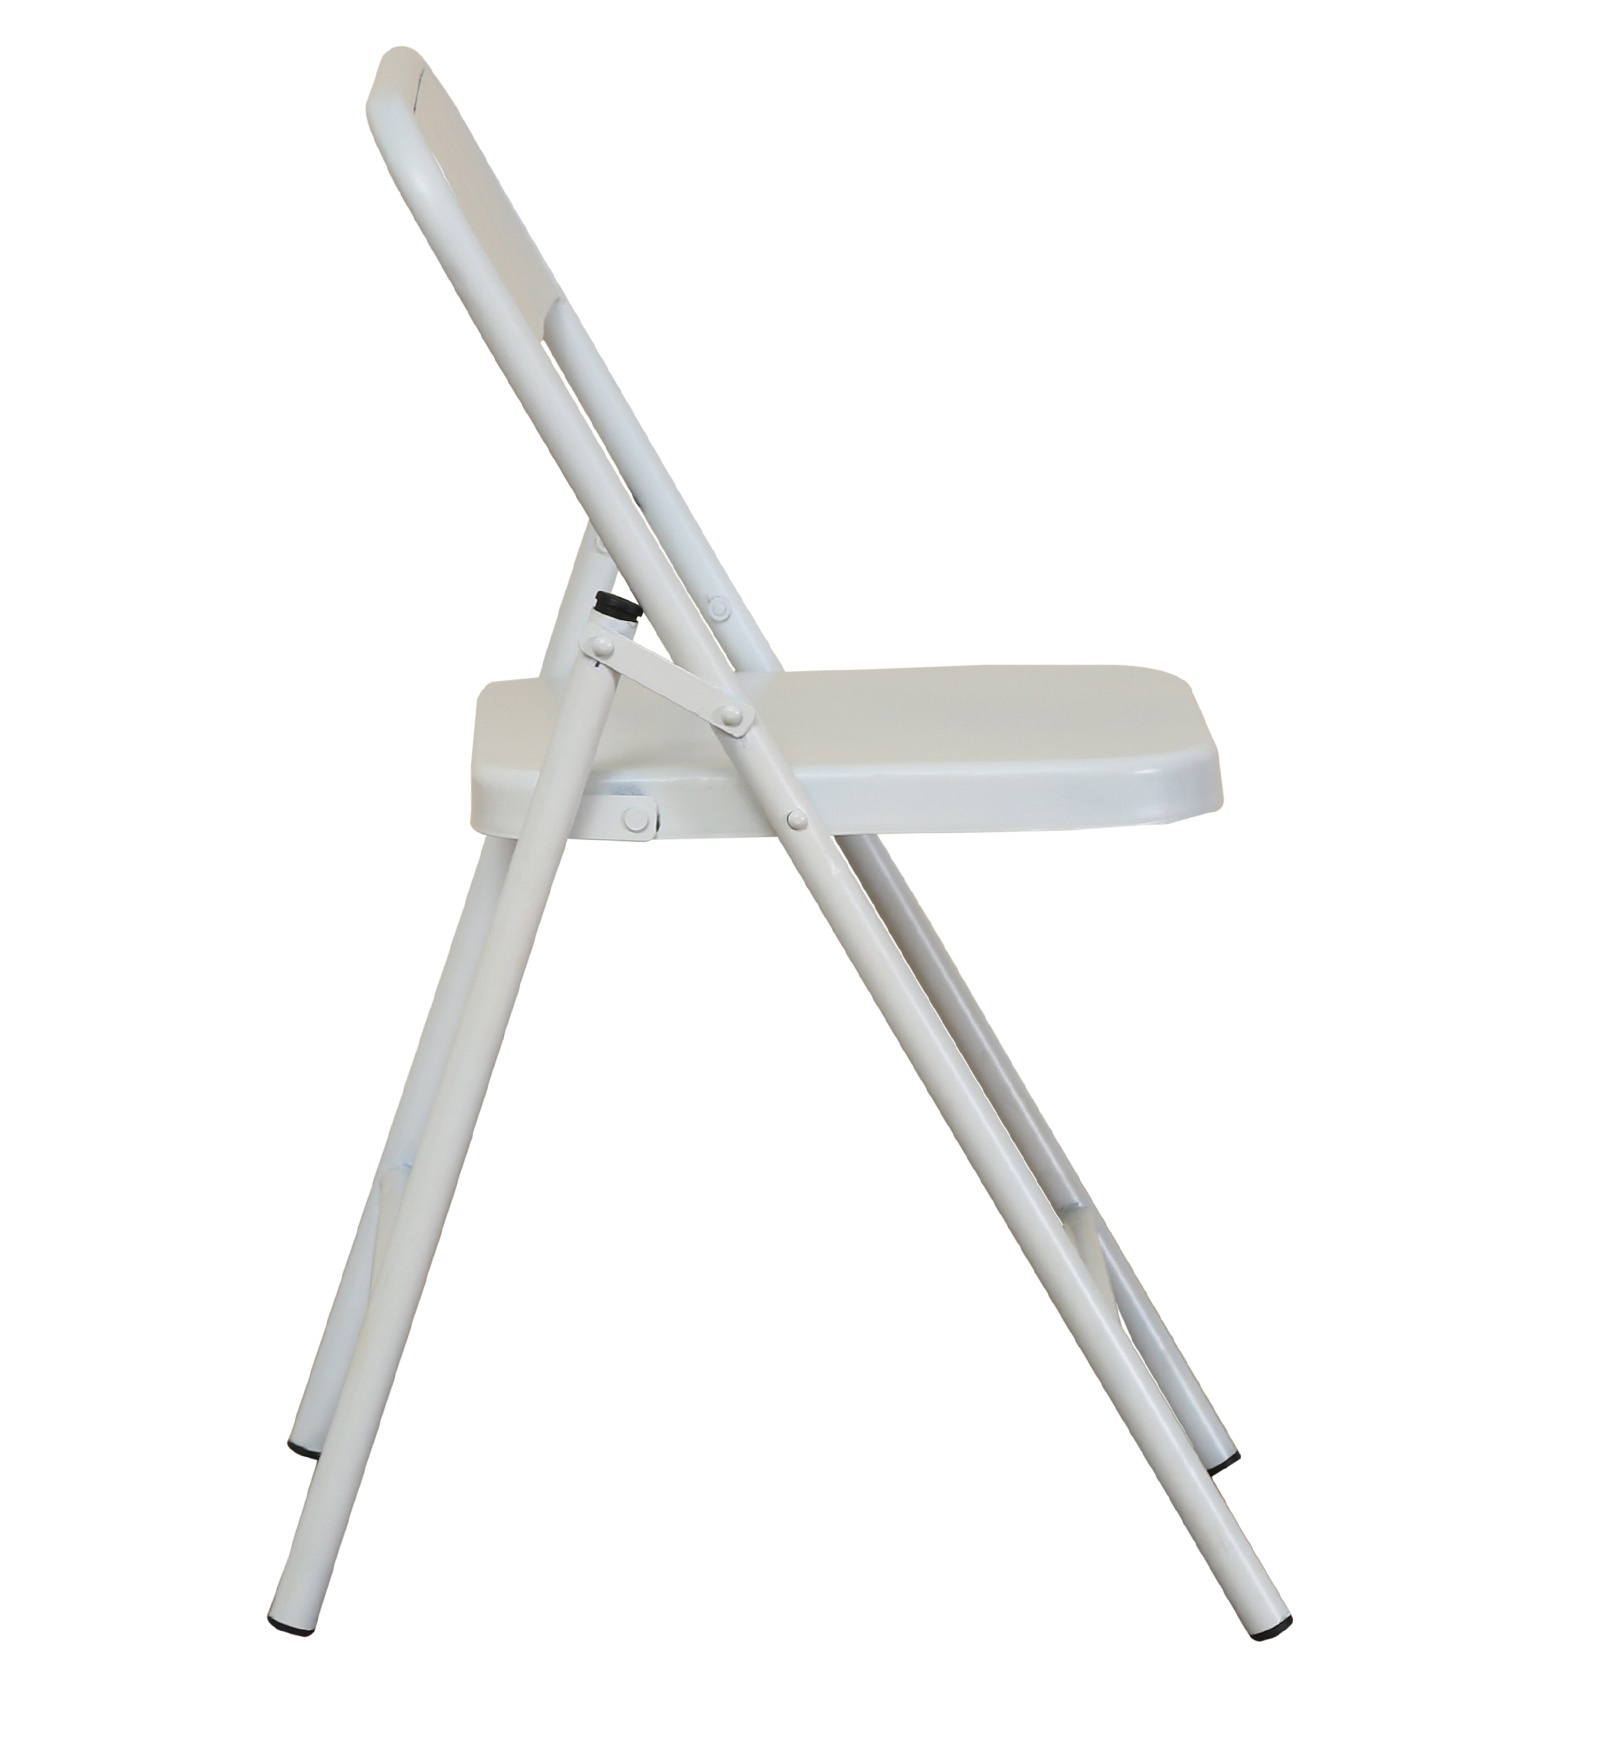Kell Folding Chair in White Color by Bohemiana: (182, 34, 1344, 1688)
